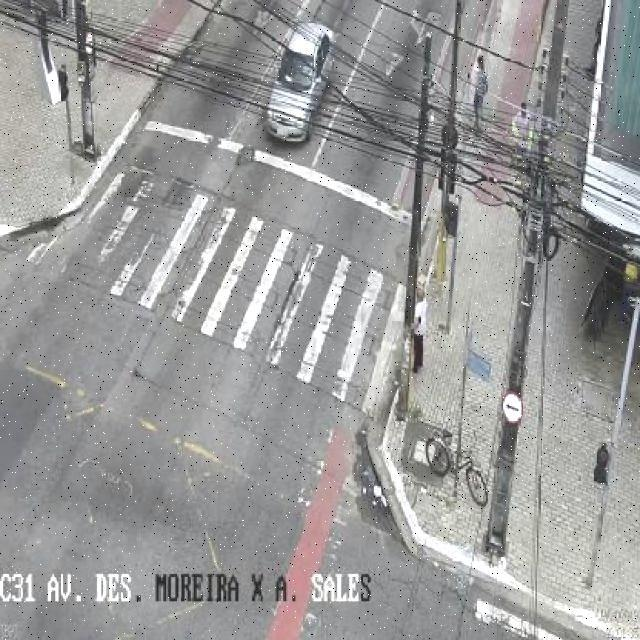Car: (260, 21, 336, 142)
Cycle: (423, 429, 490, 506)
